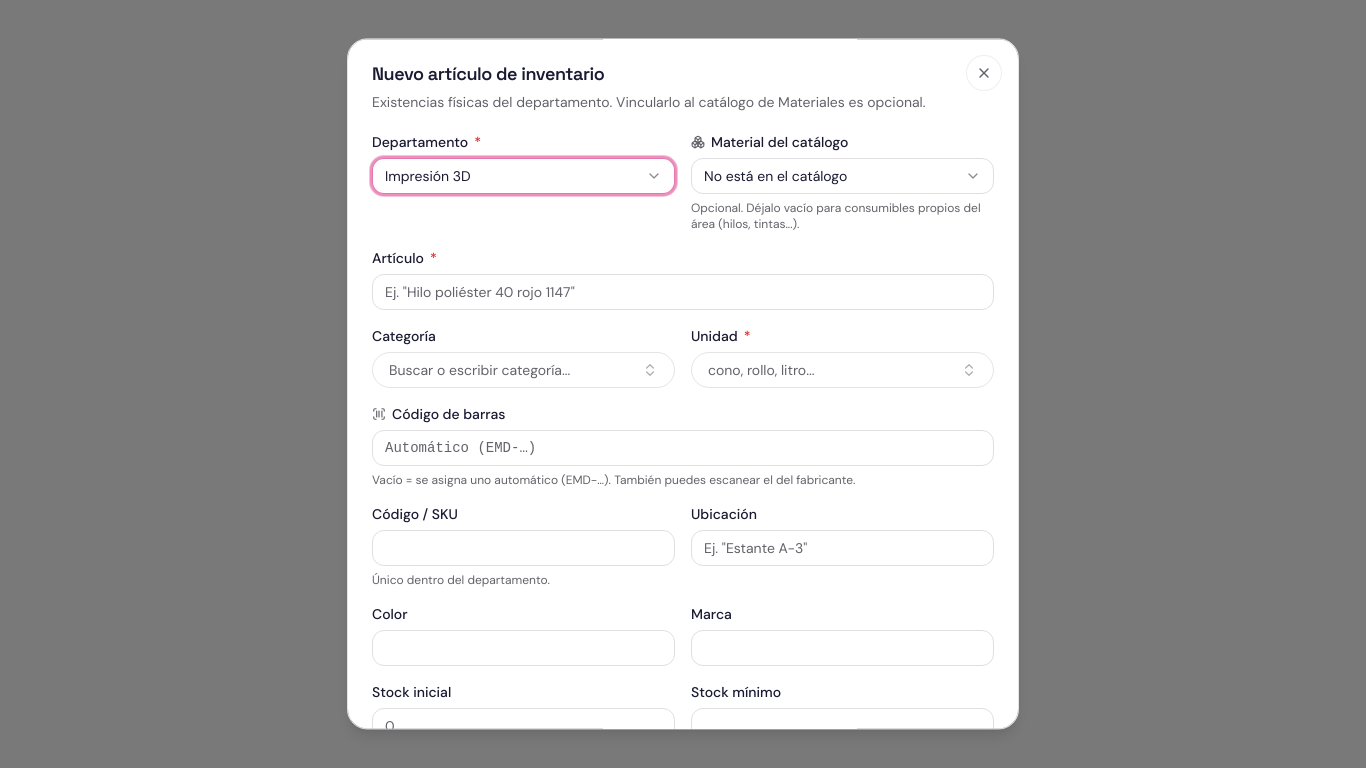
InventoryItemDialog · sugerencias del área › sugiere las categorías y unidades que se capturaron al dar de alta el área
Click the dropdown named "Unidad": (761, 370) [691, 352, 994, 388]
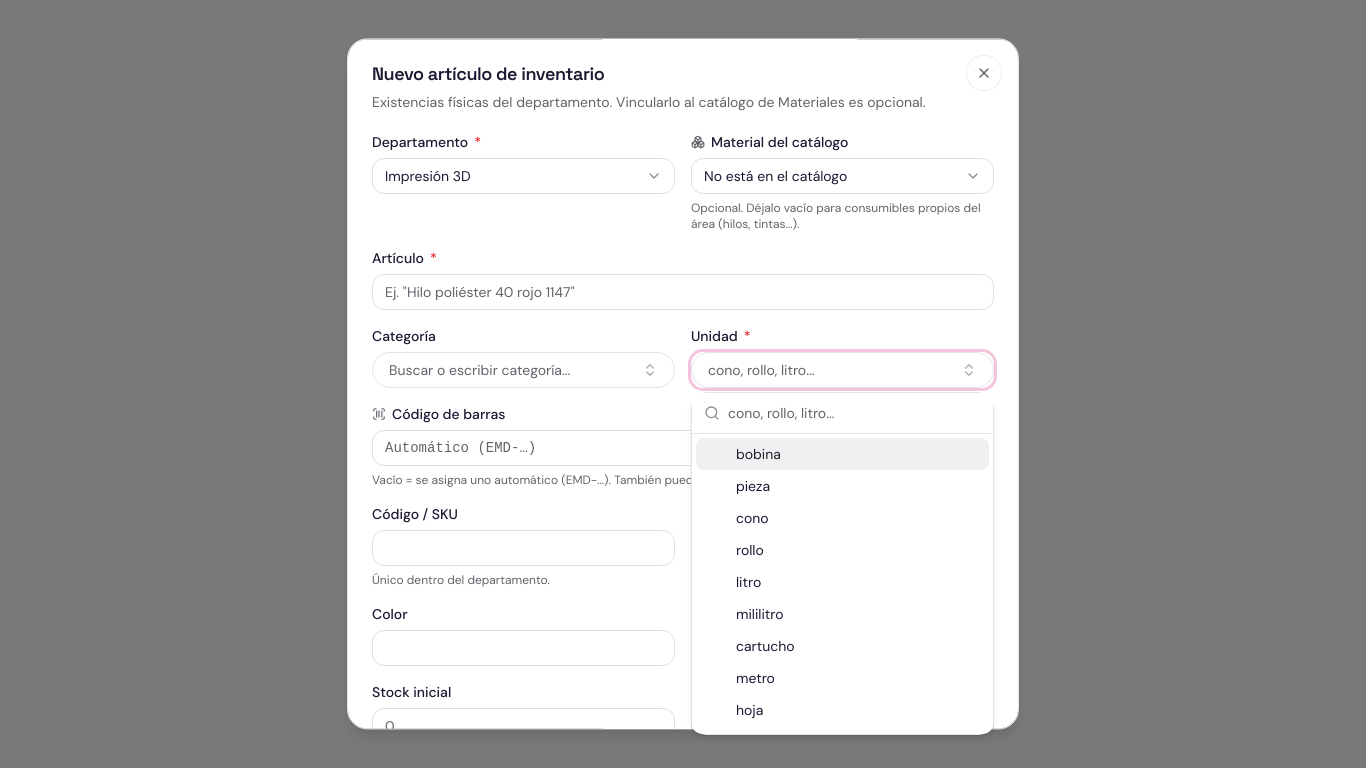
Check: the option "bobina" is shown, box [696, 438, 989, 470]
Press Escape
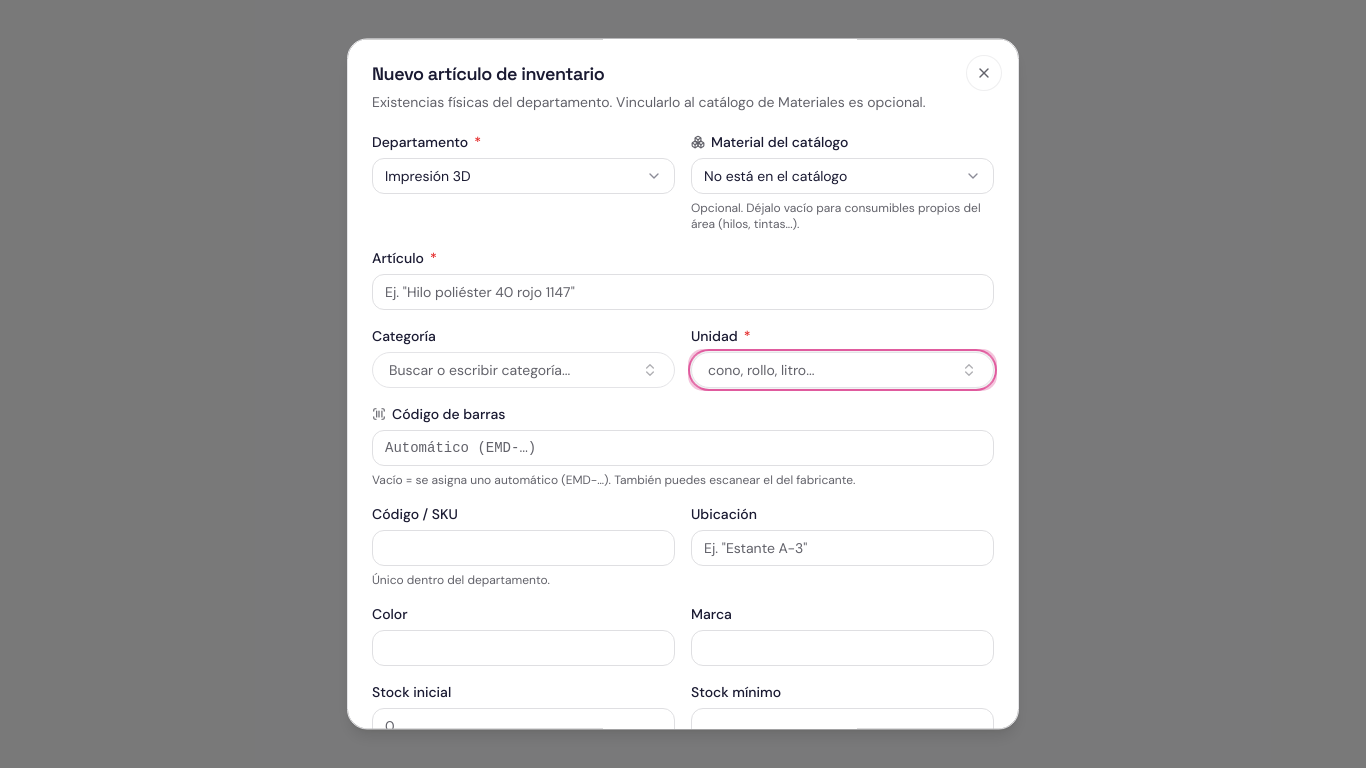
Click the dropdown labelled "Buscar o escribir categoría...": (524, 370) [372, 352, 675, 388]
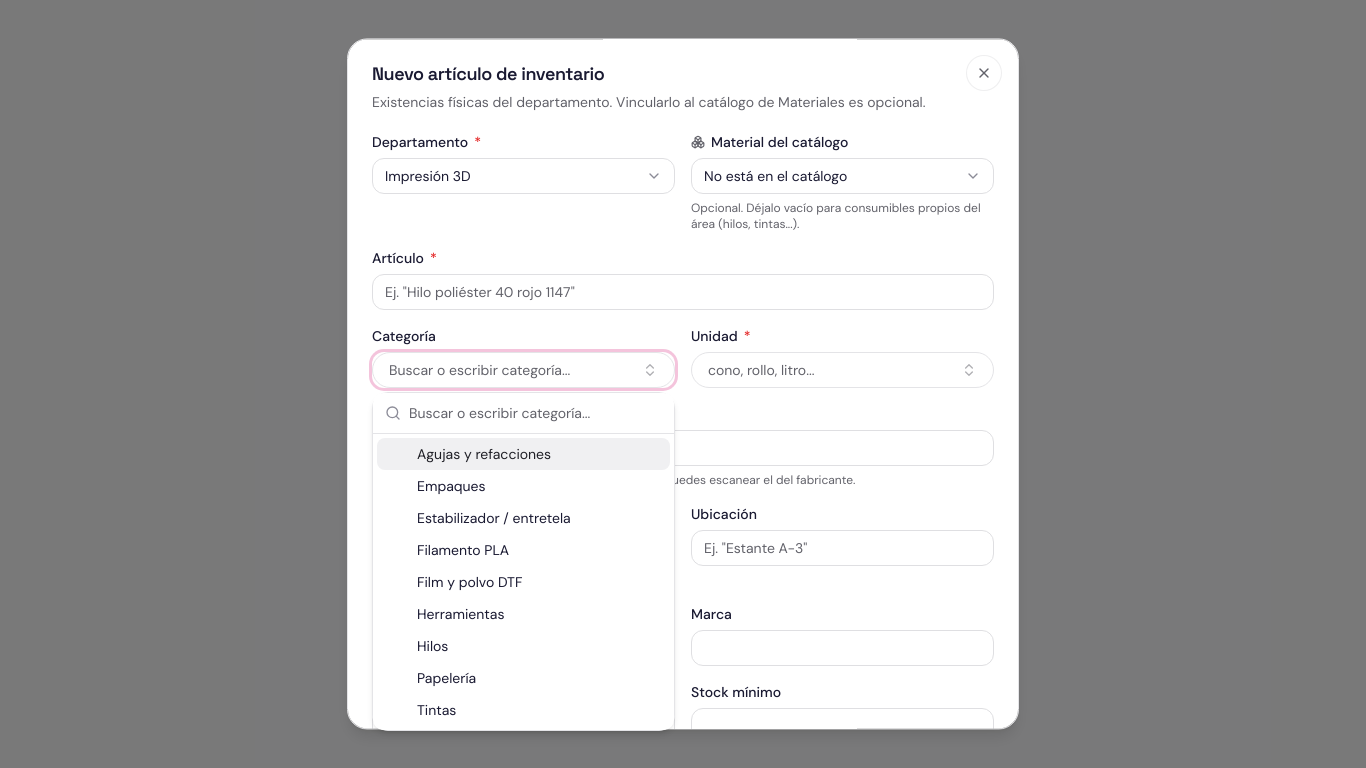
Check: the option "Filamento PLA" is shown, box [417, 541, 509, 559]
